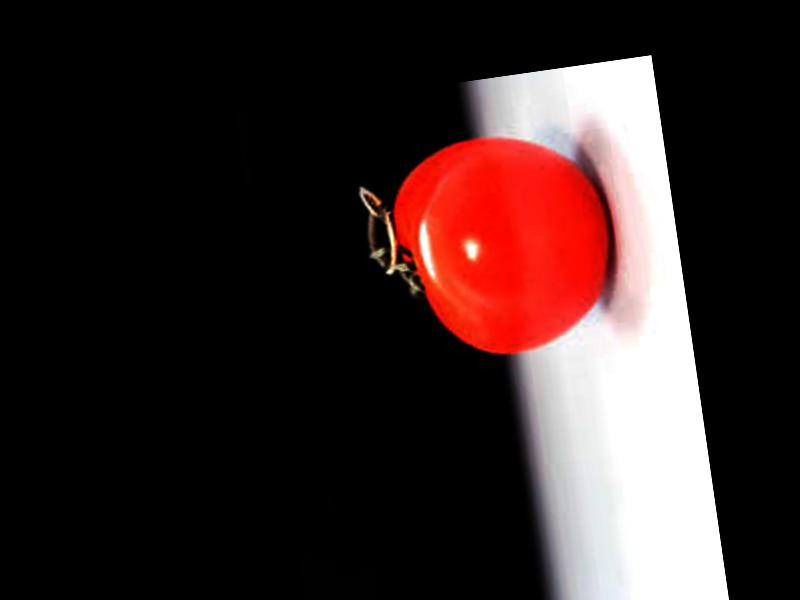Tomato: (382, 121, 624, 369)
